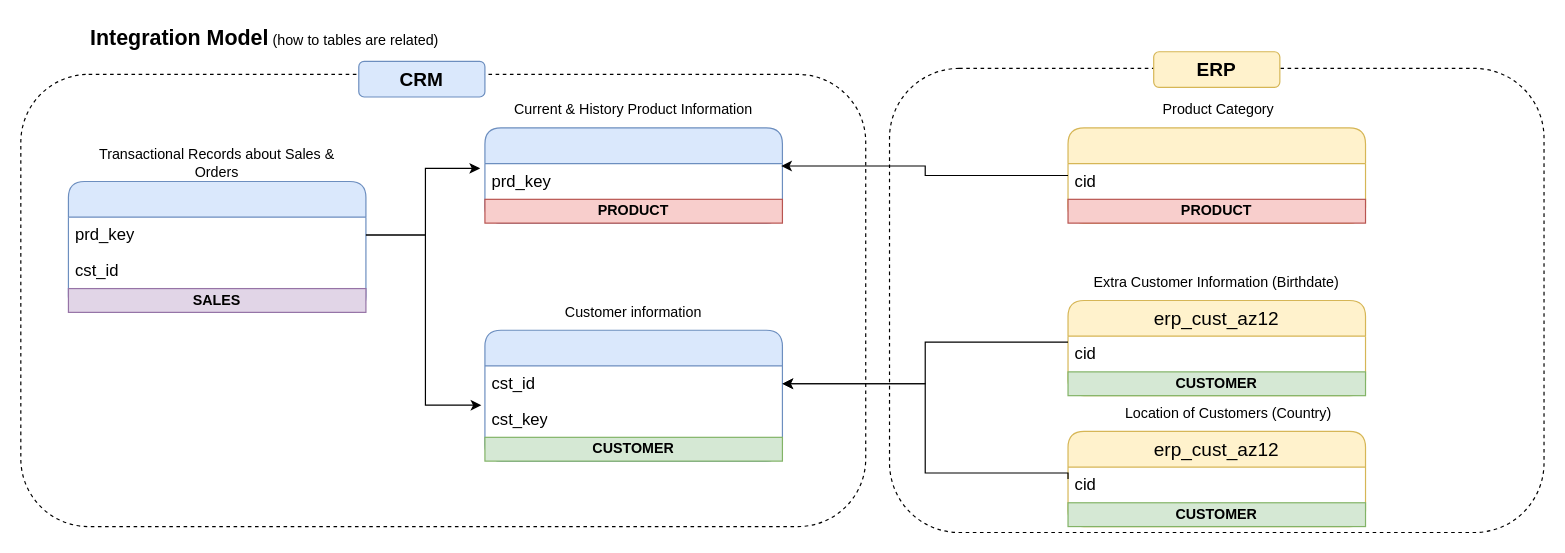
The diagram is 1565 pixels wide and 553 high, and some of its shapes have lost their labels. The box of each missing label's shape, as (x1, y1, x2, y2) in pixels:
crm_cust_info: (484, 329, 782, 461)
crm_prd_info: (484, 127, 782, 223)
crm_sales_details: (67, 180, 366, 312)
erp_px_cat_g1v2: (1067, 127, 1366, 223)
